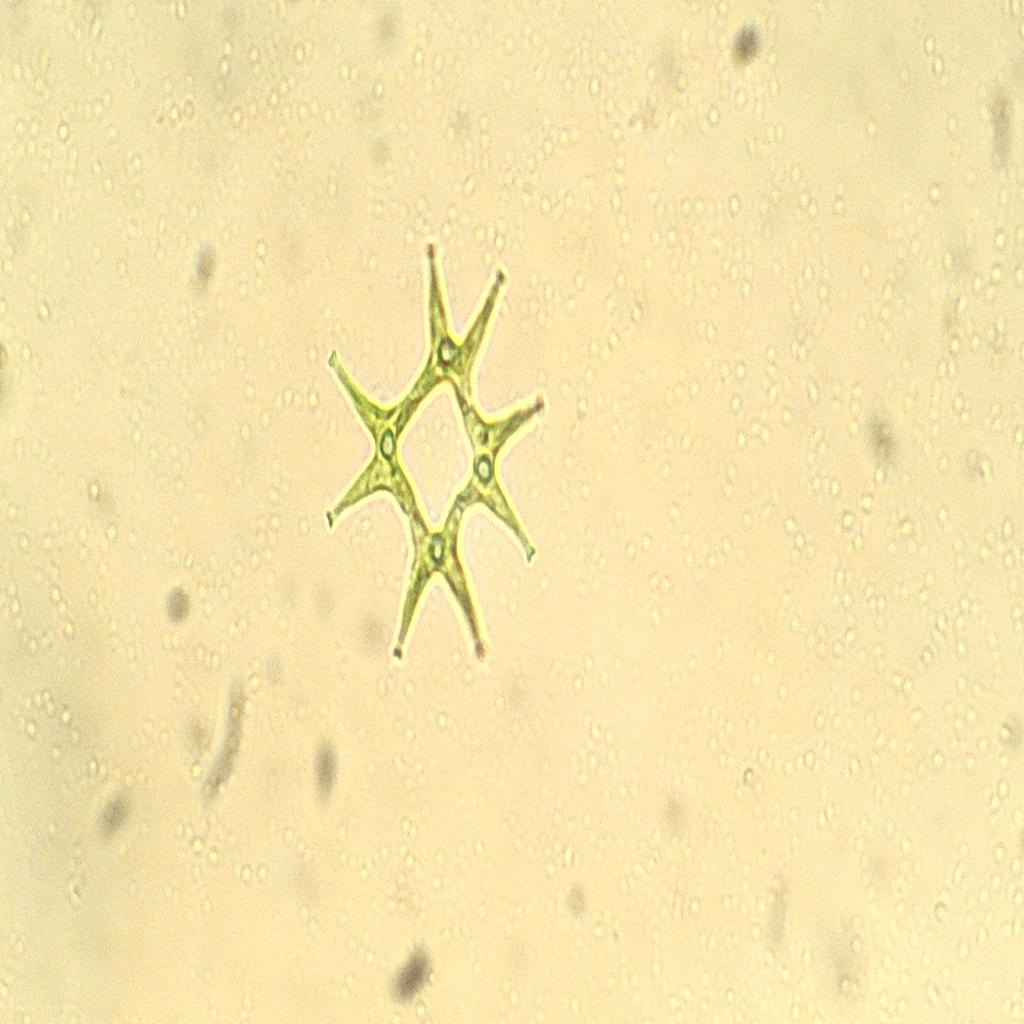Pediastrum_75O: (308, 222, 563, 691)
